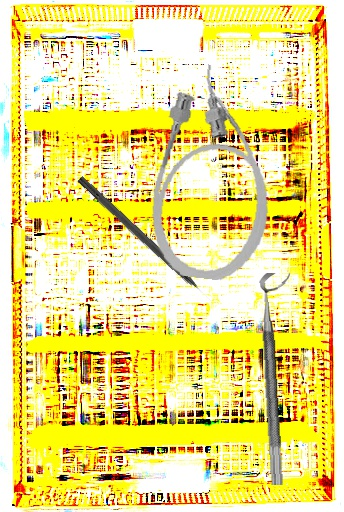Cannula: (143, 59, 286, 286)
Fixation Ring: (258, 271, 302, 486)
Hook Surgical: (75, 175, 215, 306)
